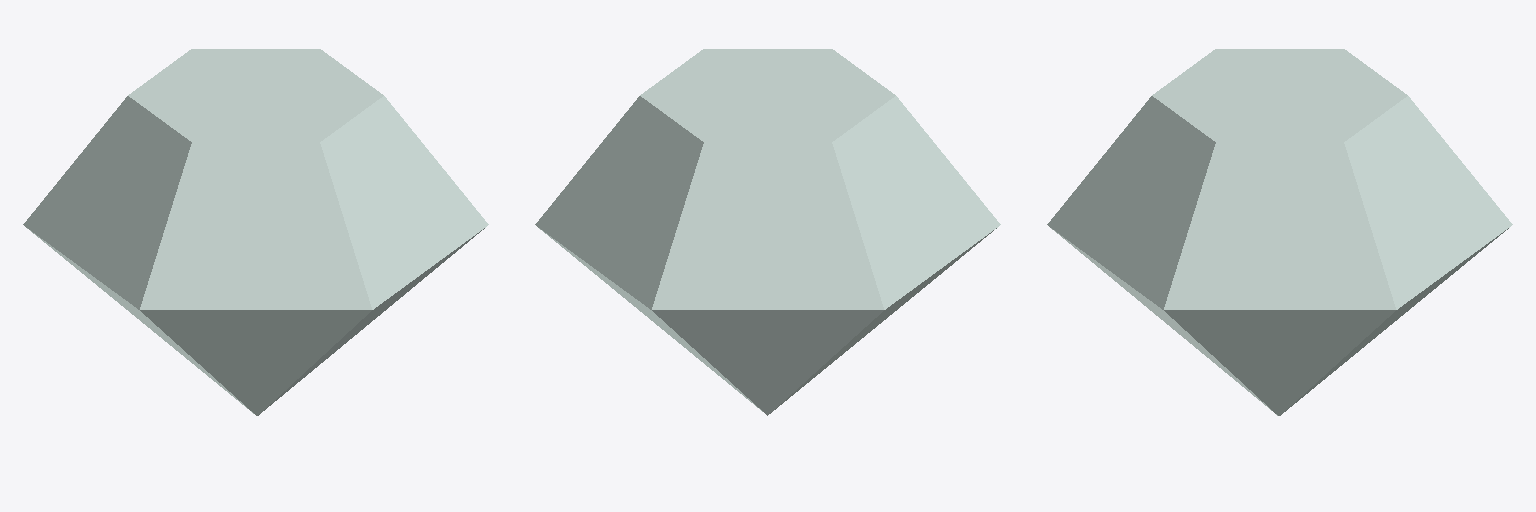
3 renders of one model, left to right at view 1: azimuth 30°, elevation 25°; view 2: azimuth 150°, elevation 25°; view 3: azimuth 270°, elevation 25°, orthographic.
Visible parts, largest first — view 1: group[number redacted]; view 2: group[number redacted]; view 3: group[number redacted].
Boxes of the visible parts, box(x1,y1,x2,y2) form: group[number redacted]: box(23, 49, 488, 415); group[number redacted]: box(535, 49, 1000, 415); group[number redacted]: box(1047, 49, 1512, 415).
Bounding box in the file's own units: 0.5515 × 0.4838 × 0.6368.